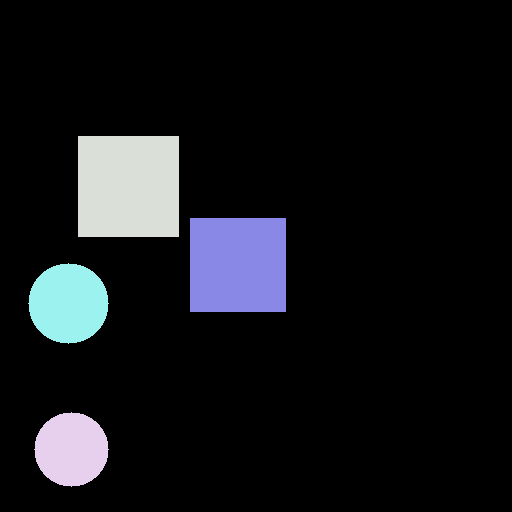circle: (28, 263, 108, 343), (34, 412, 108, 486)
square: (78, 136, 178, 236), (190, 218, 285, 311)
